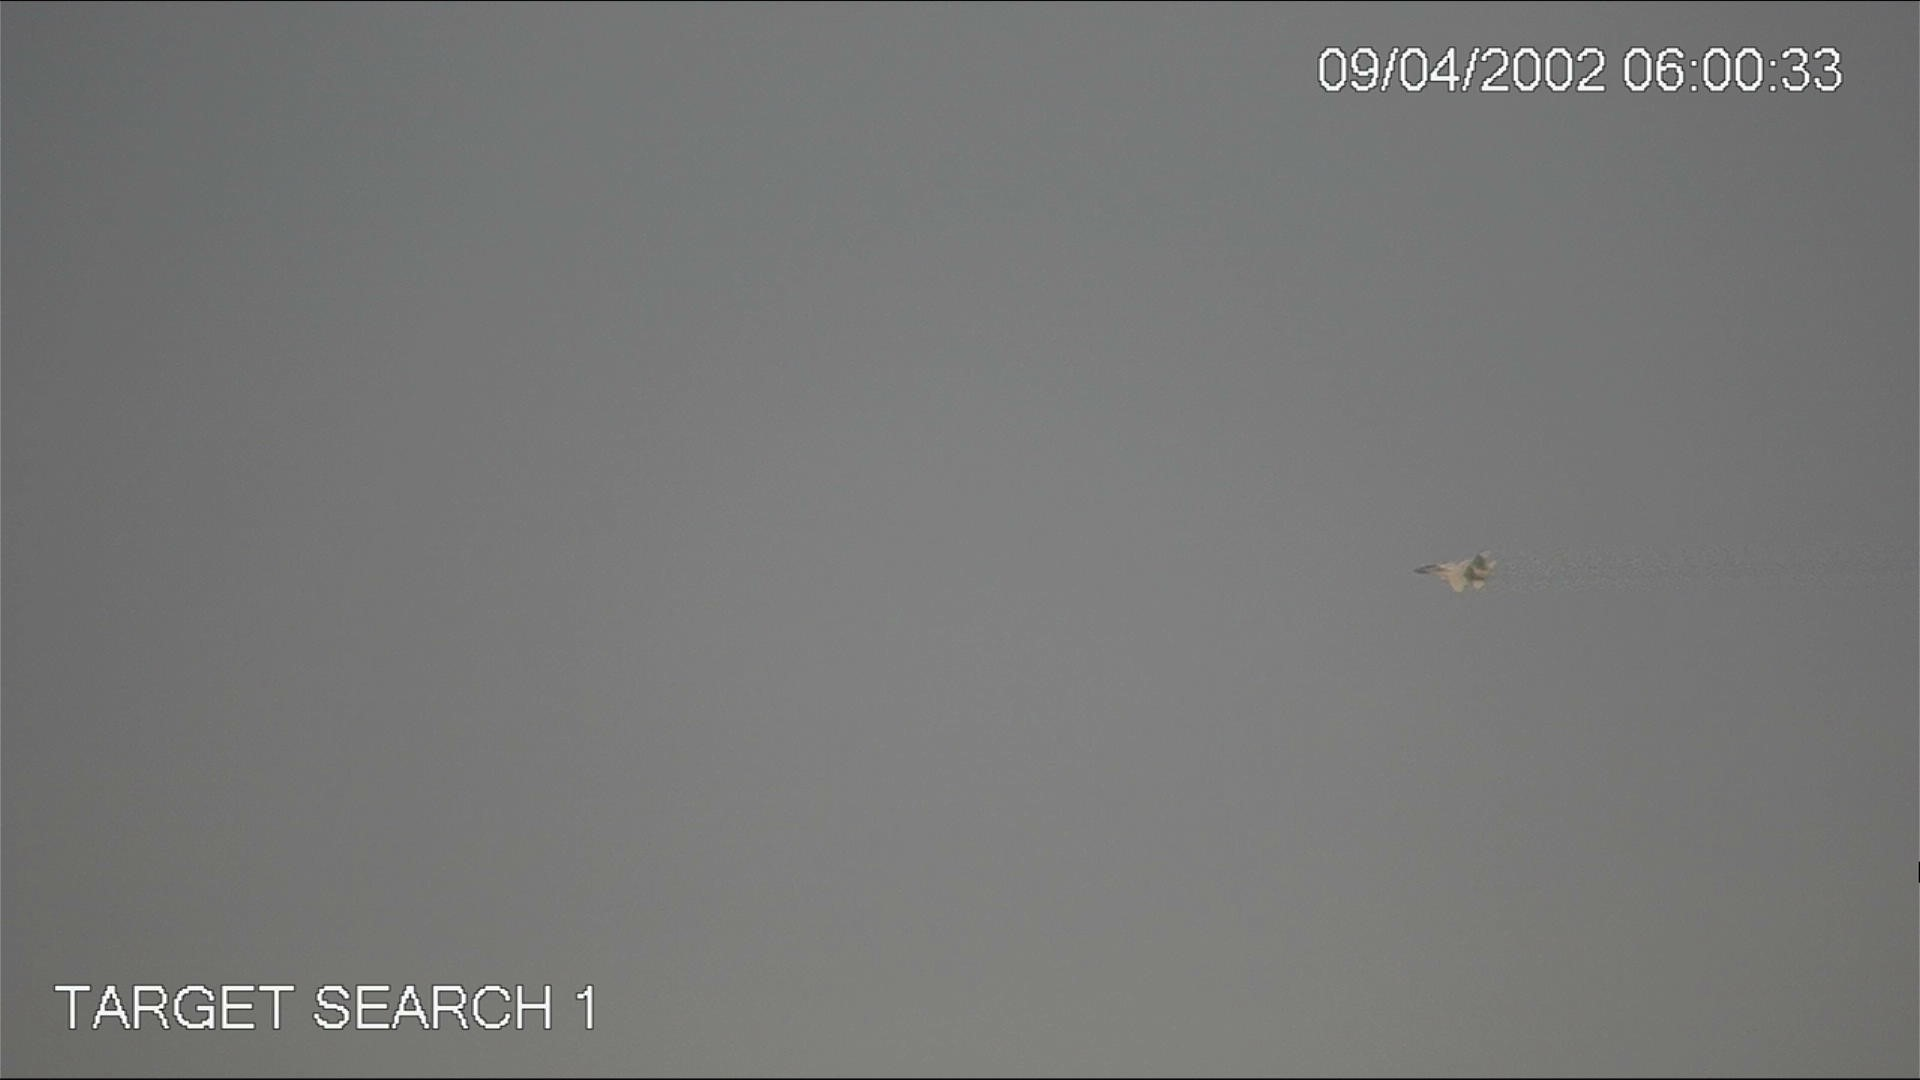SU_30: (1414, 553, 1495, 596)
